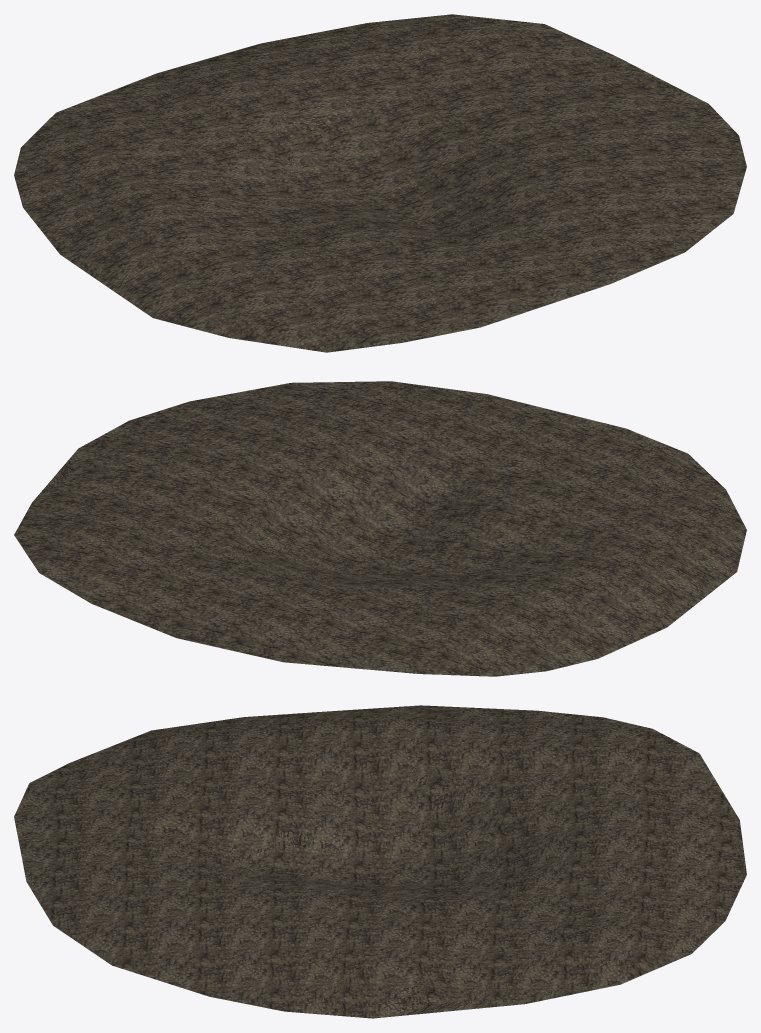
Rendered from MEP_C_Ground_03_N.fbx.
The picture shows the model from 3 angles, top to bottom: view 1: azimuth 30°, elevation 25°; view 2: azimuth 150°, elevation 25°; view 3: azimuth 270°, elevation 25°; orthographic projection. The views are drawn at different scales.
Visible parts, largest first — view 1: MEP_C_Ground_03; view 2: MEP_C_Ground_03; view 3: MEP_C_Ground_03.
Part boxes in pixels (x1,y1,x2,y2): MEP_C_Ground_03: (14, 14, 746, 352); MEP_C_Ground_03: (14, 381, 746, 676); MEP_C_Ground_03: (14, 705, 746, 1018).
Size of the model in its own units: 12591 by 745 by 11867.
1 material, 1 textured.
